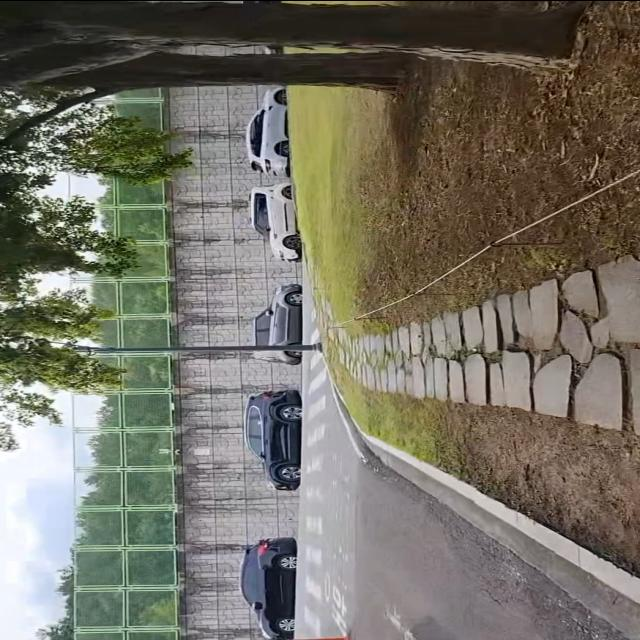obstacle: (240, 382, 308, 499), (230, 535, 304, 640), (236, 83, 302, 174), (240, 175, 304, 265), (244, 280, 305, 370), (275, 635, 346, 640)
road: (295, 288, 640, 640)
